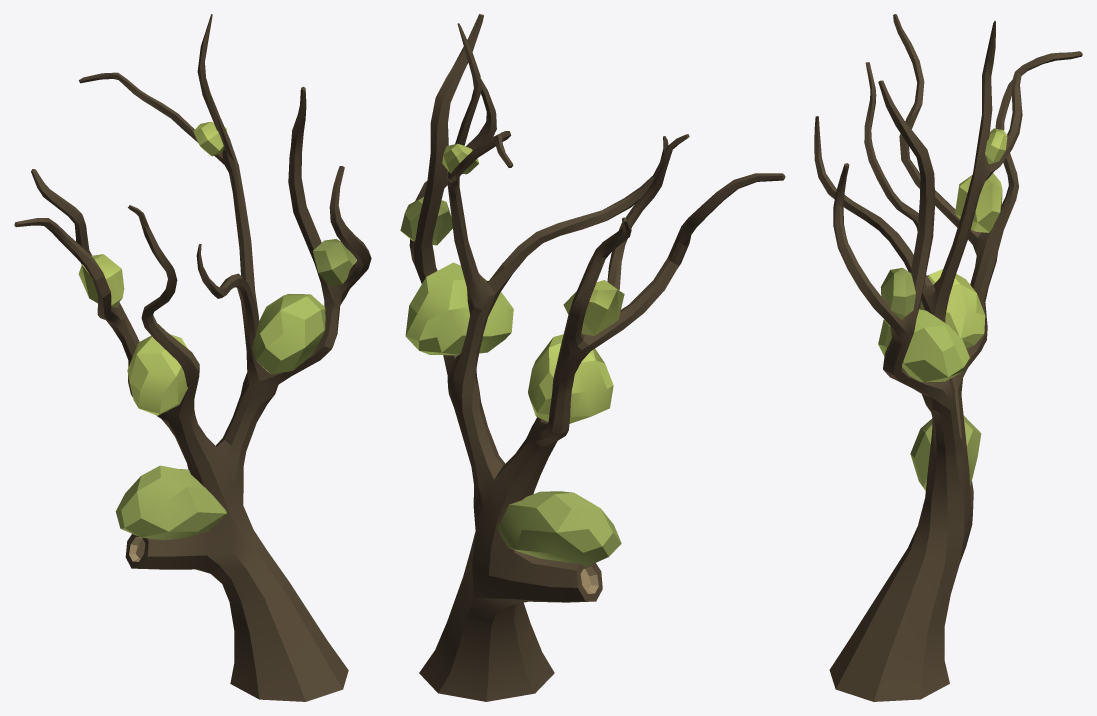
The model's file is EA03_Nature_Tree_05a.glb.
3 renders of one model, left to right at view 1: azimuth 30°, elevation 25°; view 2: azimuth 150°, elevation 25°; view 3: azimuth 270°, elevation 25°, orthographic. The views are drawn at different scales.
Parts seen in each view (by area): view 1: EA03_Nature_Tree_05a; view 2: EA03_Nature_Tree_05a; view 3: EA03_Nature_Tree_05a.
Boxes of the visible parts, box(x1,y1,x2,y2) form: EA03_Nature_Tree_05a: box(14, 14, 371, 701); EA03_Nature_Tree_05a: box(400, 14, 785, 701); EA03_Nature_Tree_05a: box(814, 14, 1082, 701).
Size of the model in its own units: 6.7 by 11.76 by 4.45.
Materials: 1 (1 with a texture image).
